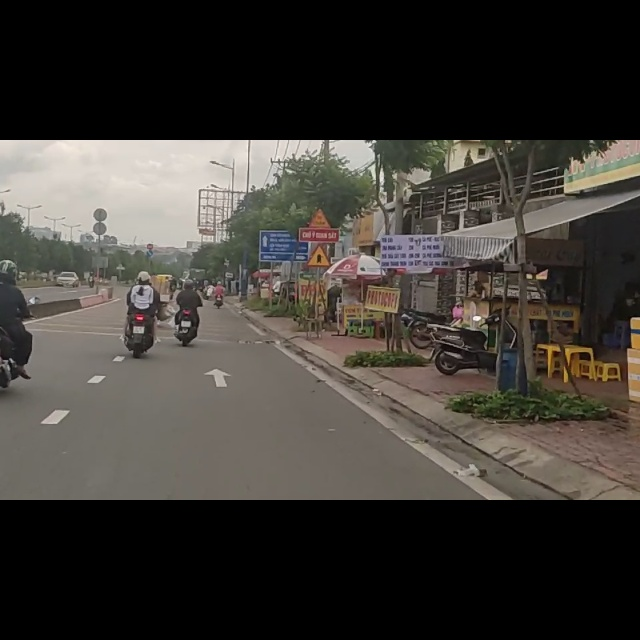bien_nguy_hiem: (303, 183, 335, 226)
